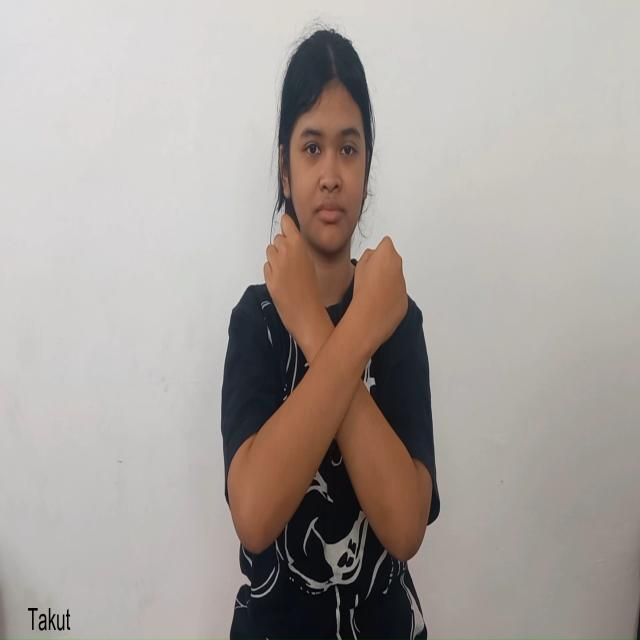Takut -BISINDO-: (255, 218, 416, 527)
